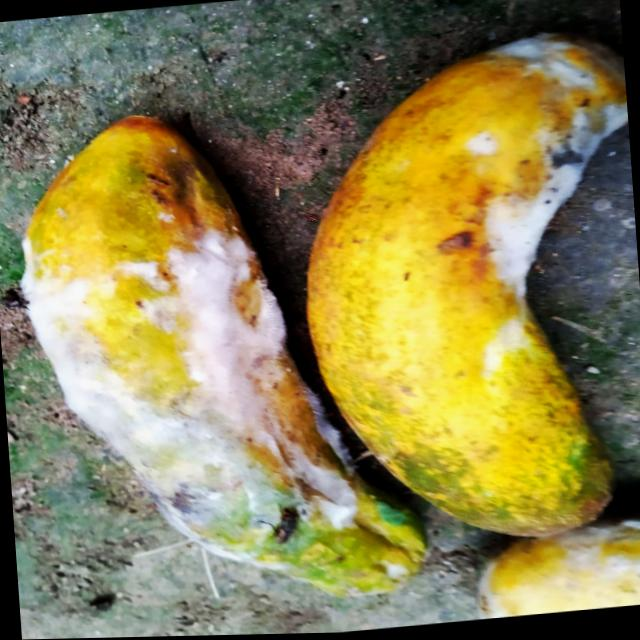Pythium-Fruit-Rot: (8, 190, 415, 640), (415, 11, 640, 405), (467, 508, 640, 622)
